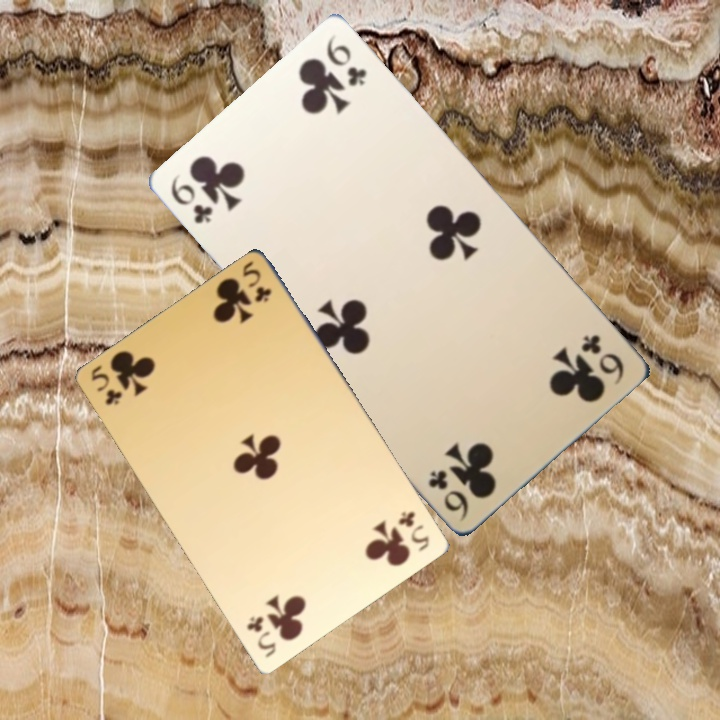5c: (86, 362, 132, 418), (241, 608, 287, 664), (237, 258, 283, 313), (392, 504, 438, 559)
6c: (159, 164, 224, 232), (574, 319, 638, 387), (316, 26, 380, 94)
